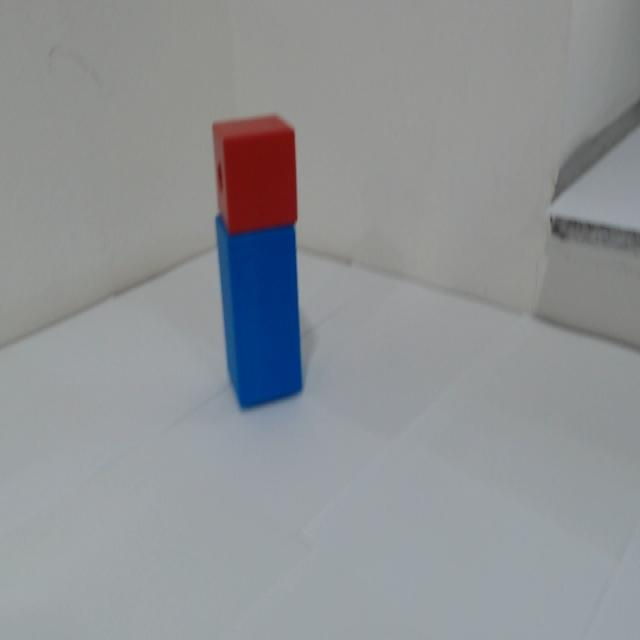cube: (207, 114, 315, 233)
